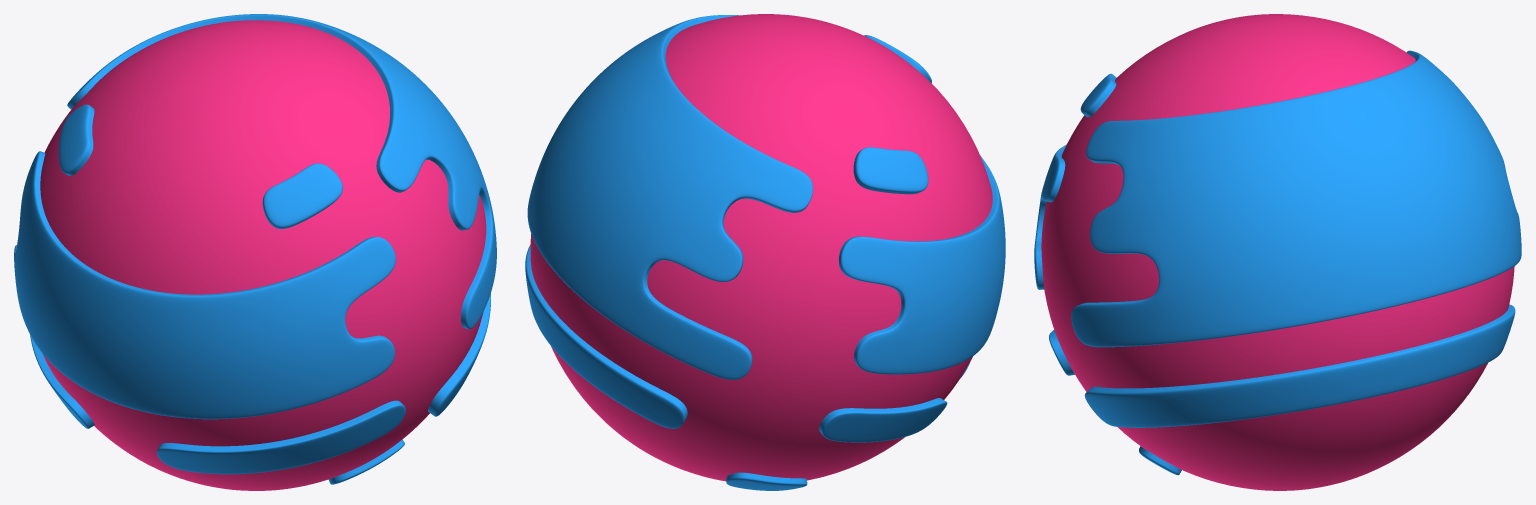
File: Planet-1.fbx
3 views of the same model, side by side, from view 1: azimuth 30°, elevation 25°; view 2: azimuth 150°, elevation 25°; view 3: azimuth 270°, elevation 25° (orthographic).
Visible parts, largest first — view 1: Sphere, Sphere.004, Sphere.003, Sphere.002, Sphere.006, Sphere.001, Sphere.005; view 2: Sphere, Sphere.003, Sphere.004, Sphere.001, Sphere.002, Sphere.006, Sphere.005; view 3: Sphere.003, Sphere, Sphere.001, Sphere.004, Sphere.006.
Boxes of the visible parts, <box> form: Sphere: <box>40,20,486,490</box>; Sphere.004: <box>14,151,395,419</box>; Sphere.003: <box>67,14,496,329</box>; Sphere.002: <box>30,335,405,474</box>; Sphere.006: <box>58,104,342,228</box>; Sphere.001: <box>428,293,490,416</box>; Sphere.005: <box>328,439,404,484</box>; Sphere: <box>530,14,992,481</box>; Sphere.003: <box>527,15,812,379</box>; Sphere.004: <box>839,155,1005,374</box>; Sphere.001: <box>525,244,687,428</box>; Sphere.002: <box>819,362,970,442</box>; Sphere.006: <box>853,35,931,194</box>; Sphere.005: <box>726,472,807,490</box>; Sphere.003: <box>1071,50,1521,347</box>; Sphere: <box>1041,14,1514,490</box>; Sphere.001: <box>1084,304,1515,427</box>; Sphere.004: <box>1034,144,1066,289</box>; Sphere.006: <box>1080,73,1116,117</box>.
Size of the model in its own units: 498 by 489 by 500.
